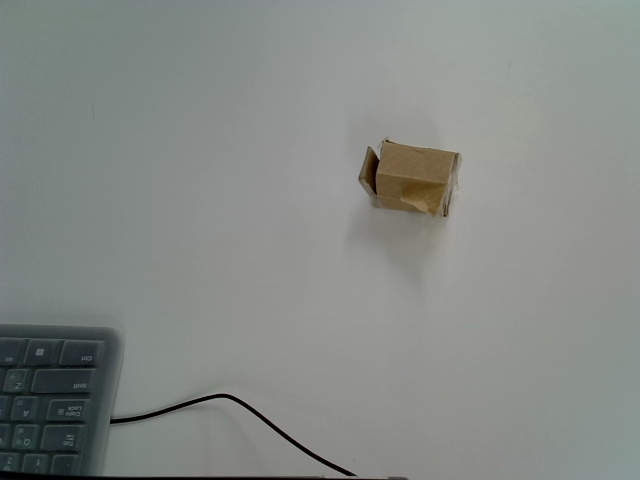defect: (358, 137, 464, 218)
